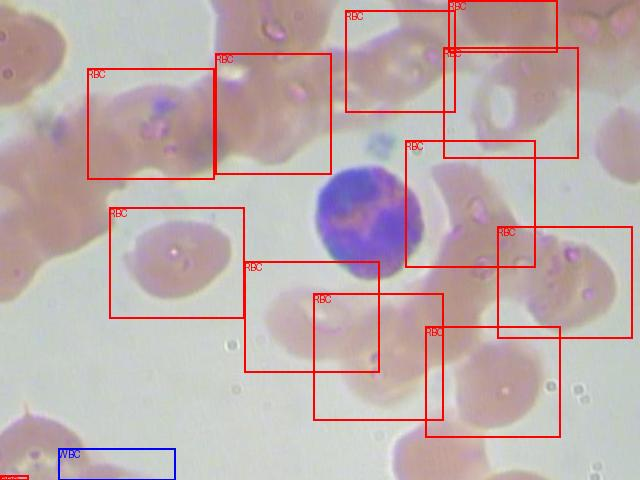RBC: (313, 293, 443, 420), (405, 140, 535, 267), (497, 226, 632, 338), (109, 207, 244, 318), (244, 261, 379, 372), (425, 326, 560, 437), (443, 47, 578, 158), (87, 68, 214, 179), (215, 53, 331, 174), (345, 10, 455, 112), (448, 0, 557, 52), (0, 475, 28, 480)
WBC: (58, 448, 175, 480)
